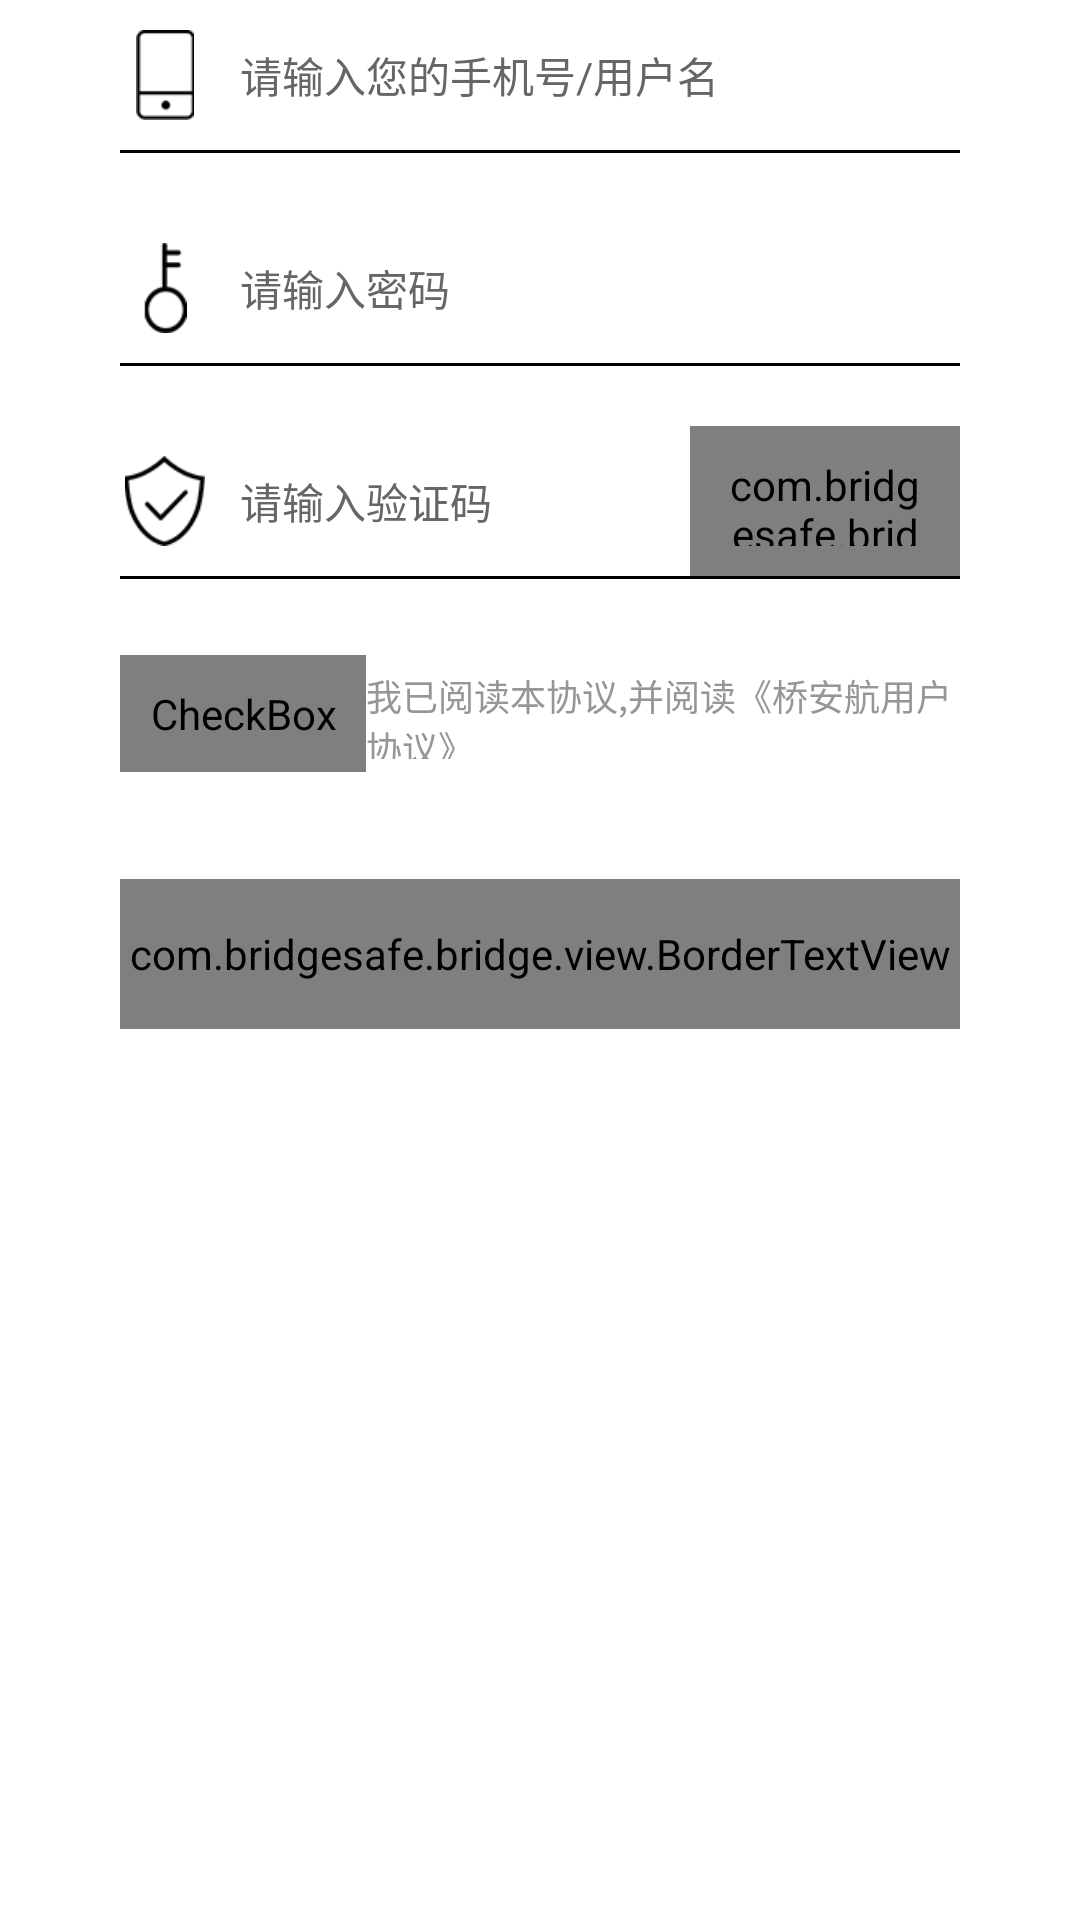

Screen size 1080 × 1920. Icon name, then its center in pixels as (x,y):
password: (165,288)
phone: (165,75)
verify code: (165,501)
